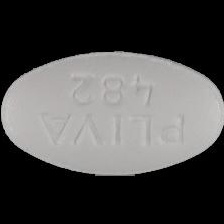53808-0315: (0, 0, 224, 224)
